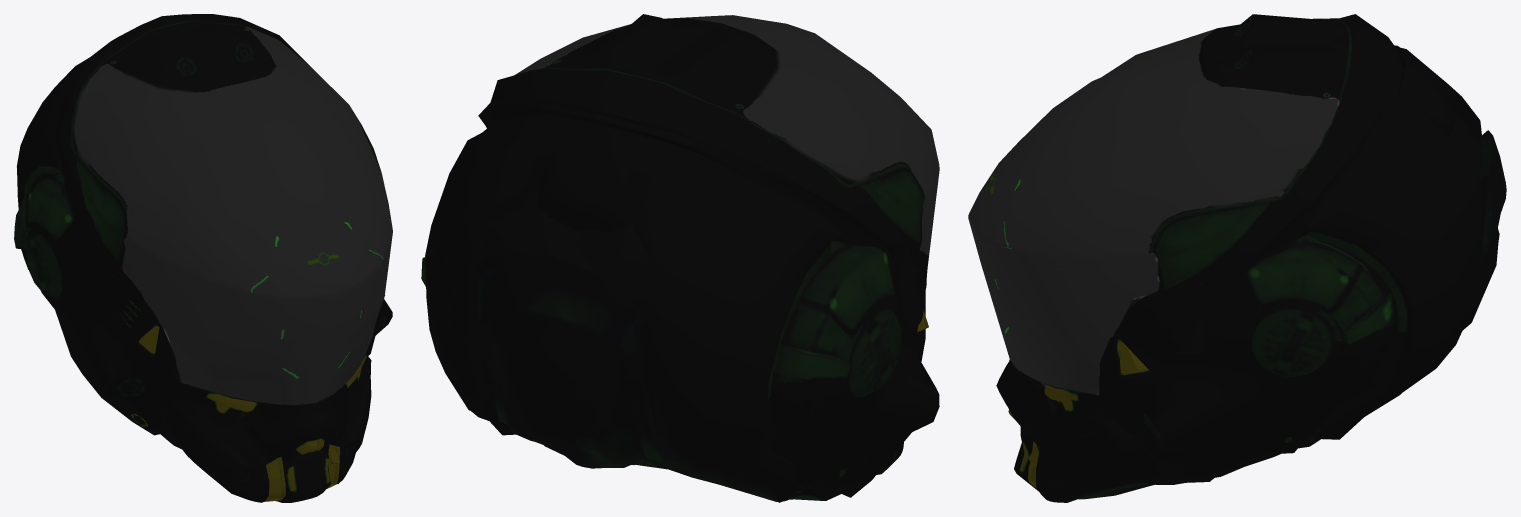
Rendered from helmet5.glb.
3 views of the same model, side by side, from view 1: azimuth 30°, elevation 25°; view 2: azimuth 150°, elevation 25°; view 3: azimuth 270°, elevation 25° (orthographic). The views are drawn at different scales.
Parts seen in each view (by area): view 1: Plane.001, Plane.023; view 2: Plane.023, Plane.001; view 3: Plane.023, Plane.001.
Boxes of the visible parts, box(x1,y1,x2,y2) form: Plane.001: box(71, 25, 392, 404); Plane.023: box(14, 14, 392, 502); Plane.023: box(421, 14, 939, 502); Plane.001: box(515, 15, 939, 265); Plane.023: box(996, 14, 1506, 502); Plane.001: box(968, 18, 1341, 394).
Size of the model in its own units: 0.4517 by 0.5286 by 0.5705.
2 materials, 2 textured.
